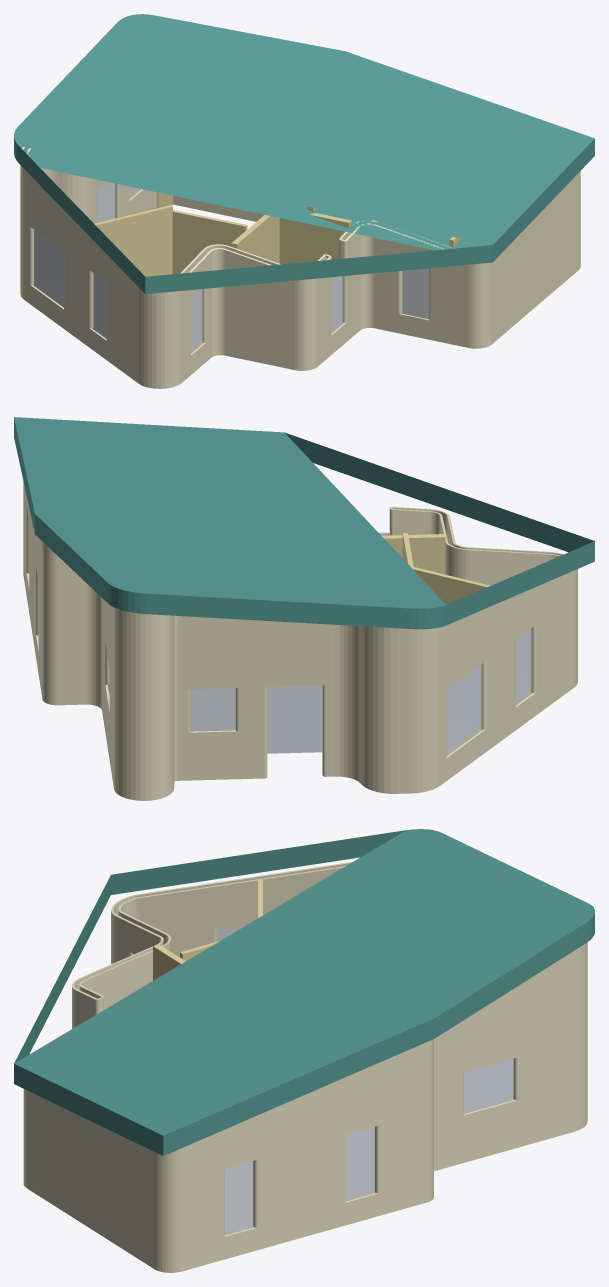
Rendered from Mark6.glb.
3 renders of one model, top to bottom at view 1: azimuth 30°, elevation 25°; view 2: azimuth 150°, elevation 25°; view 3: azimuth 270°, elevation 25°, orthographic. The views are drawn at different scales.
Bounding box in the file's own units: 42.46 × 15.46 × 38.76.
